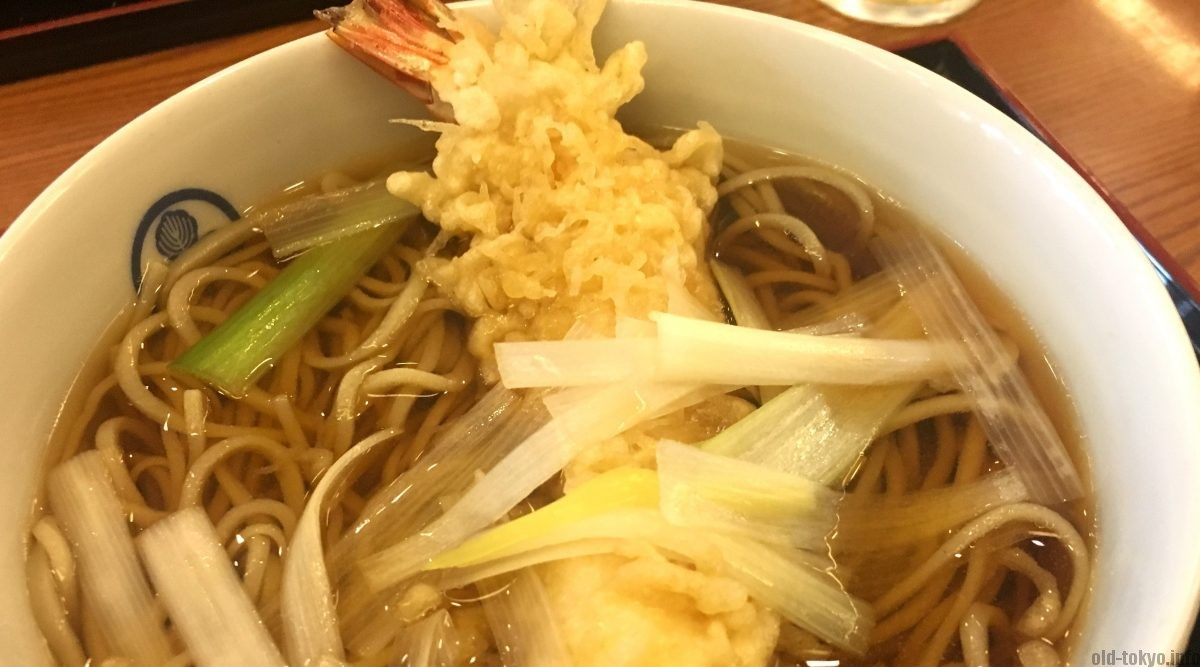Soba: (136, 216, 450, 598)
